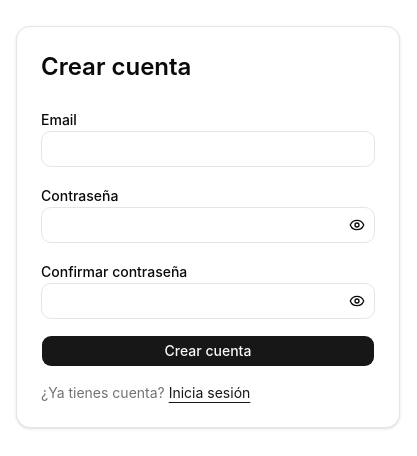
Test: auth pages › keeps an invalid-code error visible while resending
The width and height of the screenshot is (417, 456).
Type "person@example.com" into the field labelled "Email" at (208, 149), box [41,131,375,167]
Type "a secure phrase!" into the password field labelled "Contraseña" at (208, 225), box [41,207,375,243]
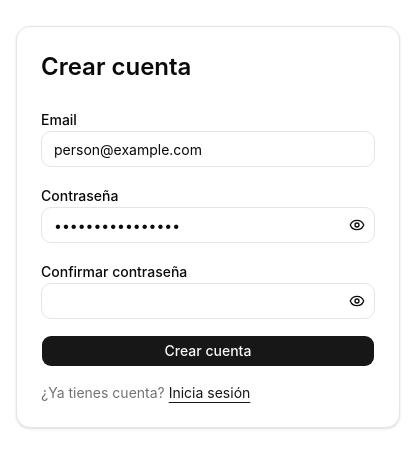
Type "a secure phrase!" into the password field labelled "Confirmar contraseña" at (208, 301), box [41,283,375,319]
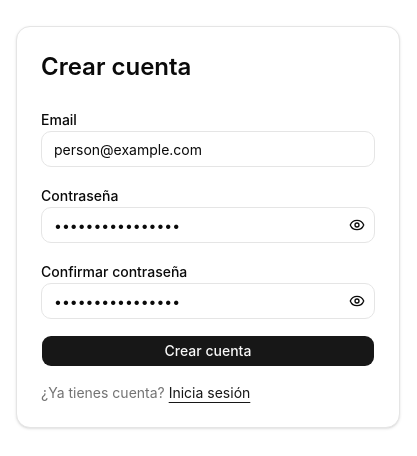
Click the button "Crear cuenta" at (208, 351), box [41,335,375,367]
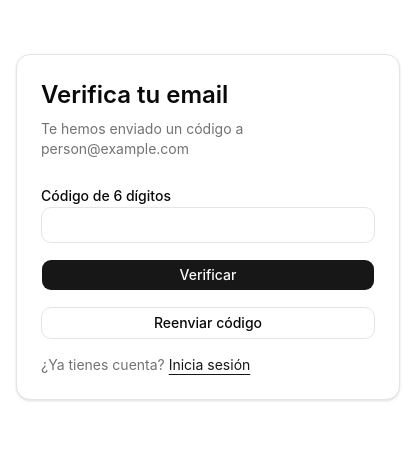
Check: the heading "Verifica tu email" is shown, box [41,80,228,109]
Type "123456" into the field labelled "Código de 6 dígitos" at (208, 225), box [41,207,375,243]
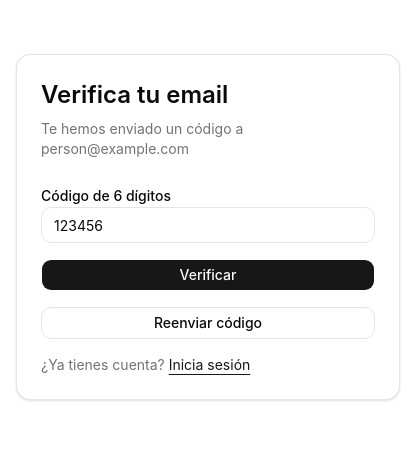
Click the button "Verificar" at (208, 275), box [41,259,375,291]
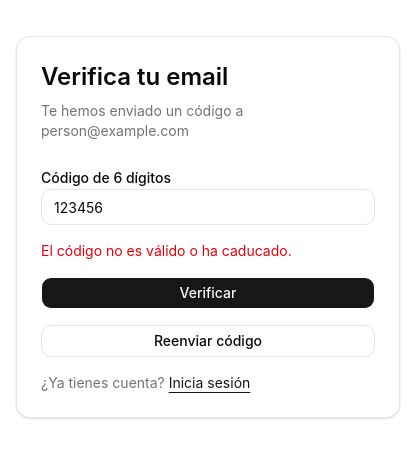
Check: the text "El código no es válido o ha caducado." is shown, box [41,242,292,259]
Click the button "Reenviar código" at (208, 341), box [41,325,375,357]
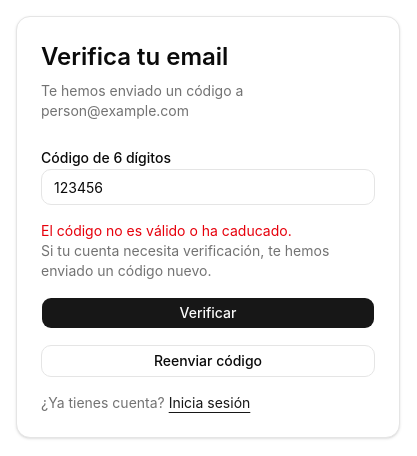
Check: the text "El código no es válido o ha caducado." is shown, box [41,222,292,239]
Check: the text "Si tu cuenta necesita verificación, te hemos enviado un código nuevo." is shown, box [41,241,375,281]
